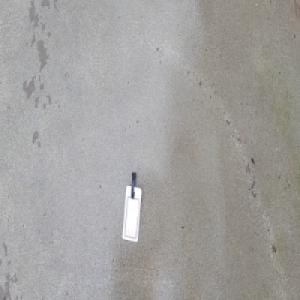LuggageTag: (121, 171, 142, 243)
